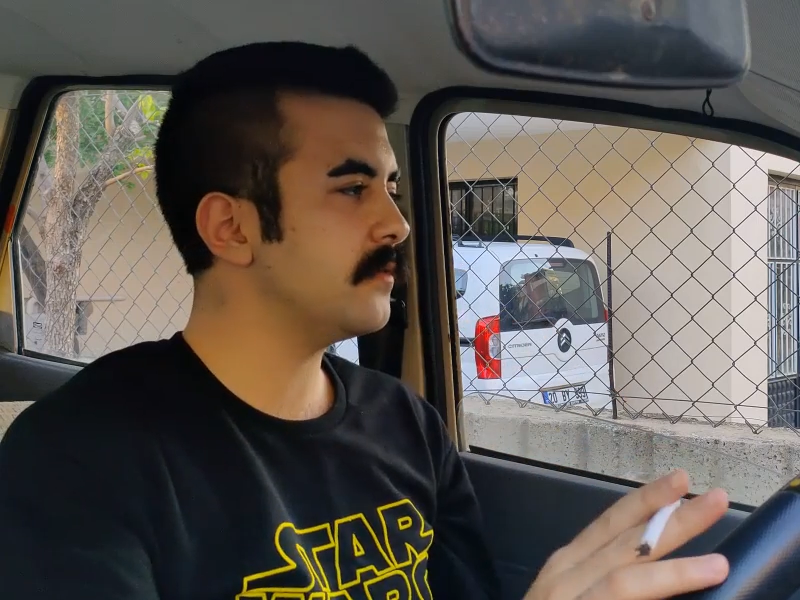sigara: (627, 490, 685, 563)
